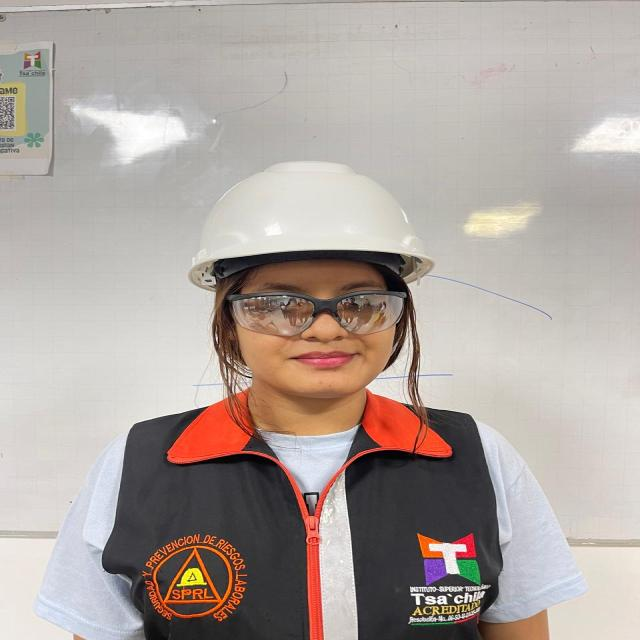helmet: (188, 162, 434, 291)
protective_glasses: (228, 290, 407, 337)
